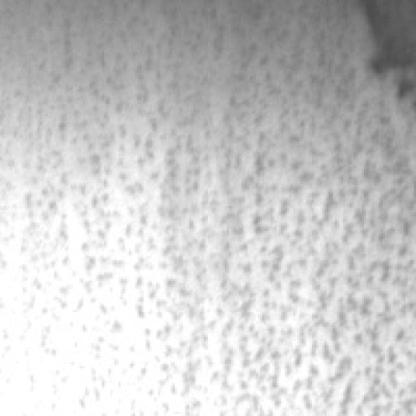patches: (360, 0, 414, 98)
pitted_surface: (27, 16, 389, 410)
